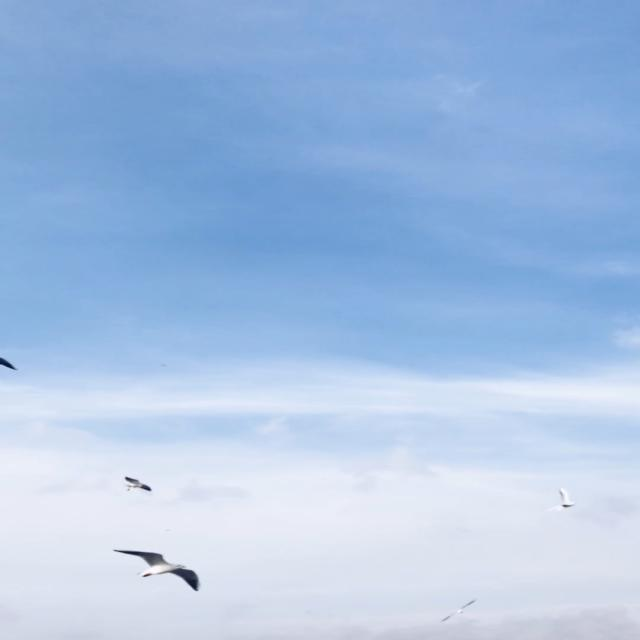bird: (103, 544, 205, 591), (436, 596, 479, 626), (546, 484, 581, 517), (115, 474, 156, 494)
